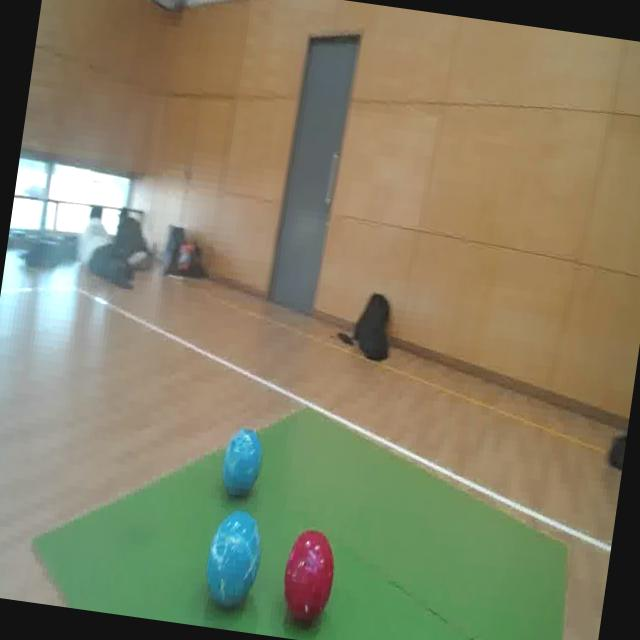blue_ball: (198, 508, 268, 614), (218, 424, 266, 500)
red_ball: (276, 522, 340, 620)
